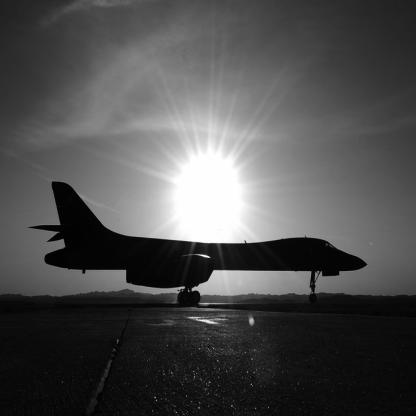B1: (27, 182, 368, 304)
